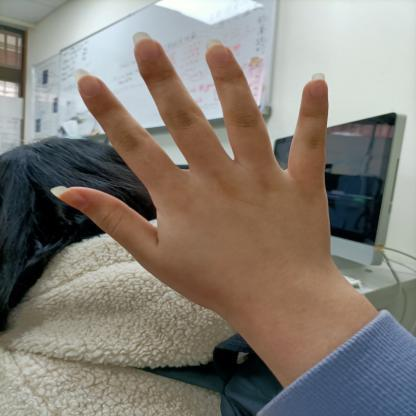bare_hand: (39, 22, 344, 317)
